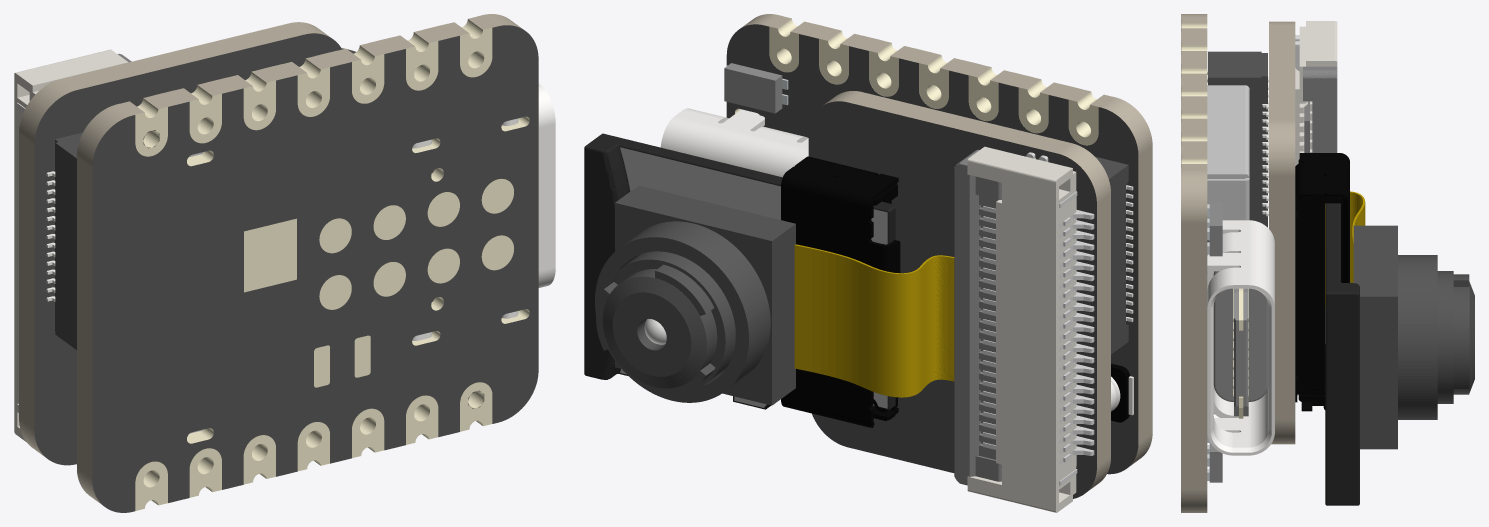
File: seeed-studio-xiao-esp32-s3-sense.gltf
3 renders of one model, left to right at view 1: azimuth 30°, elevation 25°; view 2: azimuth 150°, elevation 25°; view 3: azimuth 270°, elevation 25°, orthographic. The views are drawn at different scales.
Parts seen in each view (by area): view 1: Node3, Node14, Node8, Node1, Node16; view 2: Node3, Node16, Node18, Node8, Node7, Node13, Node14, Node9, Node2, Node1, Node12, Node15; view 3: Node3, Node8, Node1, Node7, Node9, Node15, Node5, Node13, Node16, Node14, Node18.
Part boxes in pixels (left/top/right/bottom): Node3: left=34, top=25, right=538, bottom=512; Node14: left=135, top=19, right=529, bottom=510; Node8: left=19, top=14, right=522, bottom=505; Node1: left=46, top=84, right=555, bottom=340; Node16: left=14, top=49, right=128, bottom=441; Node3: left=595, top=24, right=1138, bottom=498; Node16: left=967, top=146, right=1076, bottom=512; Node18: left=794, top=244, right=954, bottom=397; Node8: left=740, top=14, right=1152, bottom=492; Node7: left=781, top=156, right=1129, bottom=427; Node13: left=954, top=149, right=1001, bottom=485; Node14: left=735, top=19, right=1098, bottom=145; Node9: left=584, top=133, right=895, bottom=410; Node2: left=983, top=152, right=1094, bottom=485; Node1: left=660, top=108, right=1133, bottom=415; Node12: left=620, top=147, right=887, bottom=408; Node15: left=724, top=63, right=782, bottom=113; Node3: left=1208, top=51, right=1474, bottom=449; Node8: left=1181, top=14, right=1295, bottom=512; Node1: left=1207, top=69, right=1274, bottom=455; Node7: left=1295, top=153, right=1349, bottom=411; Node9: left=1325, top=203, right=1359, bottom=505; Node15: left=1207, top=202, right=1268, bottom=482; Node5: left=1207, top=85, right=1249, bottom=414; Node13: left=1303, top=66, right=1337, bottom=343; Node16: left=1295, top=21, right=1337, bottom=165; Node14: left=1181, top=23, right=1248, bottom=418; Node18: left=1325, top=191, right=1365, bottom=306.
Size of the model in its own units: 24.36 by 17.78 by 13.96.
